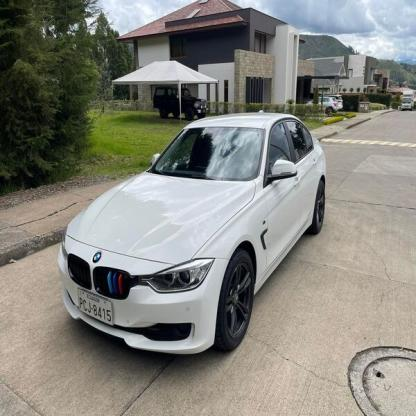Placa: (72, 285, 121, 332)
